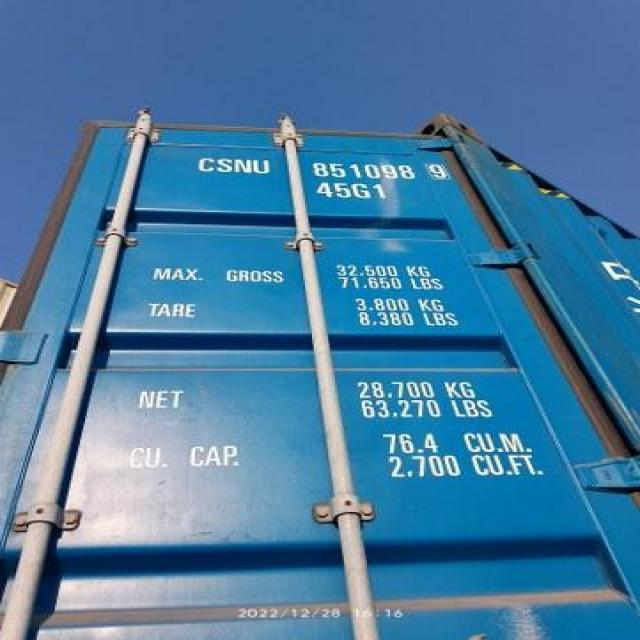ISO: (318, 182, 388, 202)
container_number: (198, 150, 454, 186)
